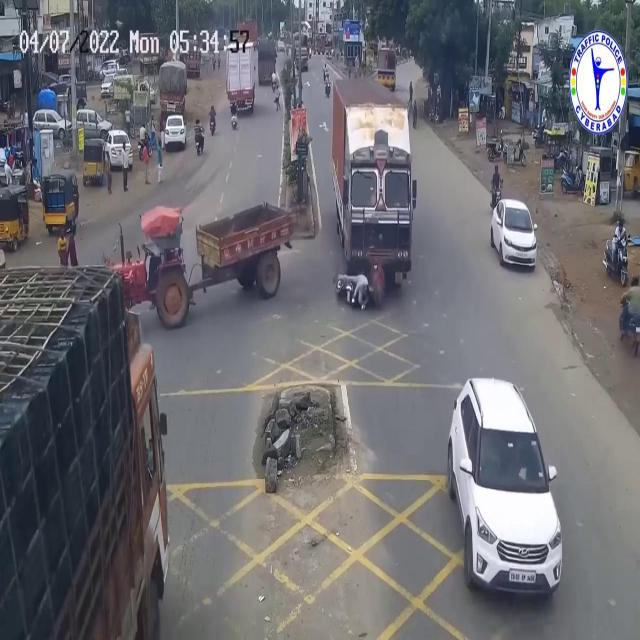accident: (327, 68, 423, 315)
non_accident: (0, 200, 301, 640), (76, 97, 136, 194), (156, 55, 190, 157)
